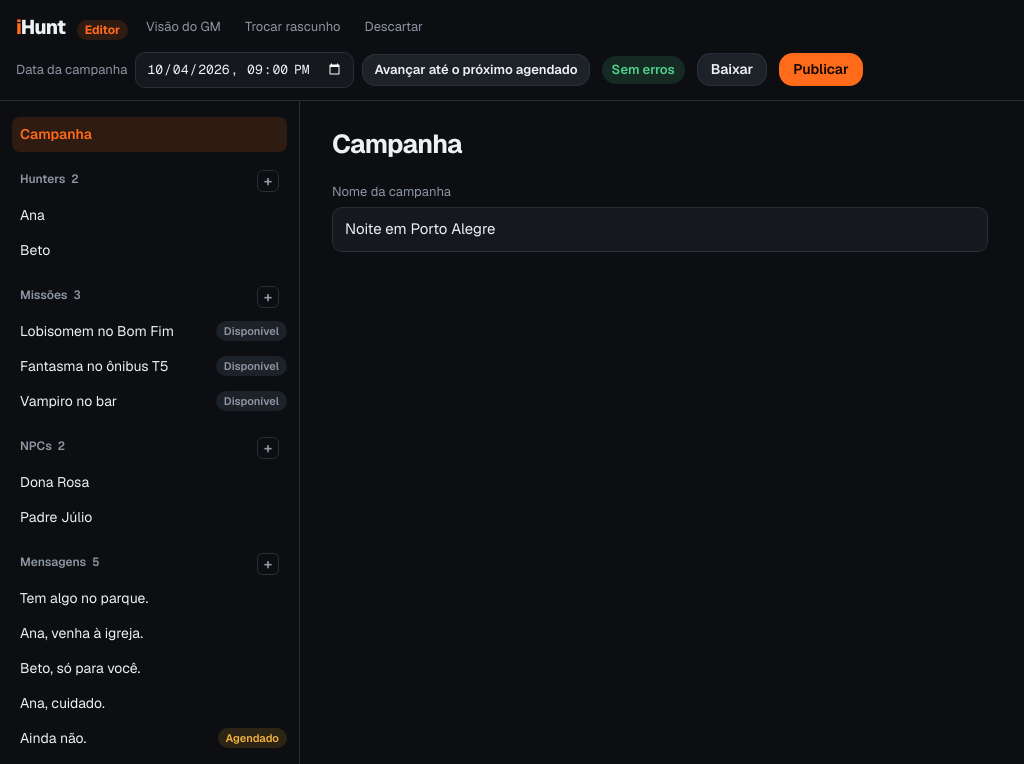
Test: Replacing the Rascunho › asks before replacing the open draft
The width and height of the screenshot is (1024, 764).
Step 1. Replace the text in the field labelled "Nome da campanha" with "Noite em Pelotas" → [660, 229], box [332,207,988,252]
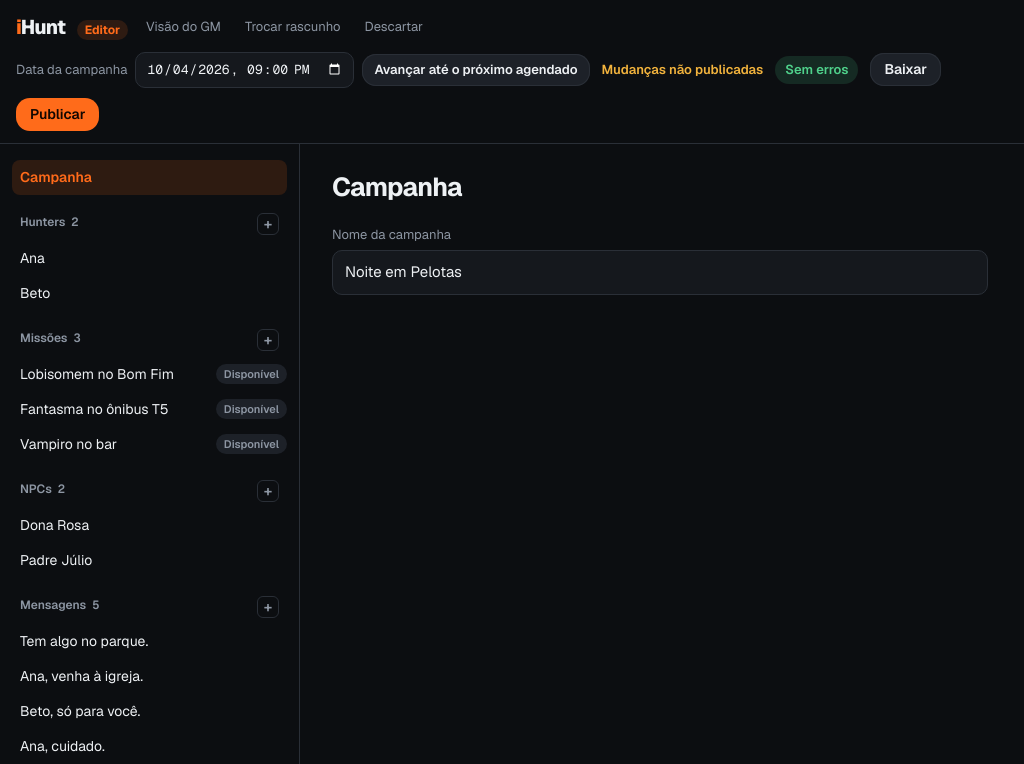
Step 2. Click the button "Trocar rascunho" → [293, 27], box [239,13,346,41]
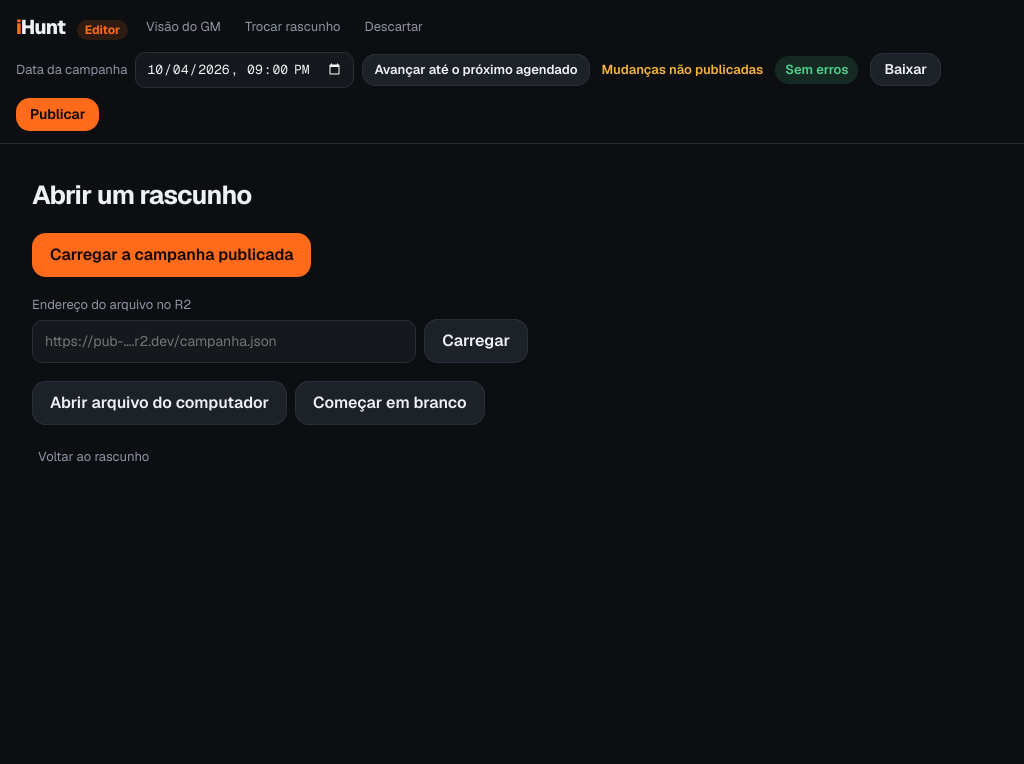
Step 3. Click the button "Começar em branco" → [390, 403], box [295,381,485,425]
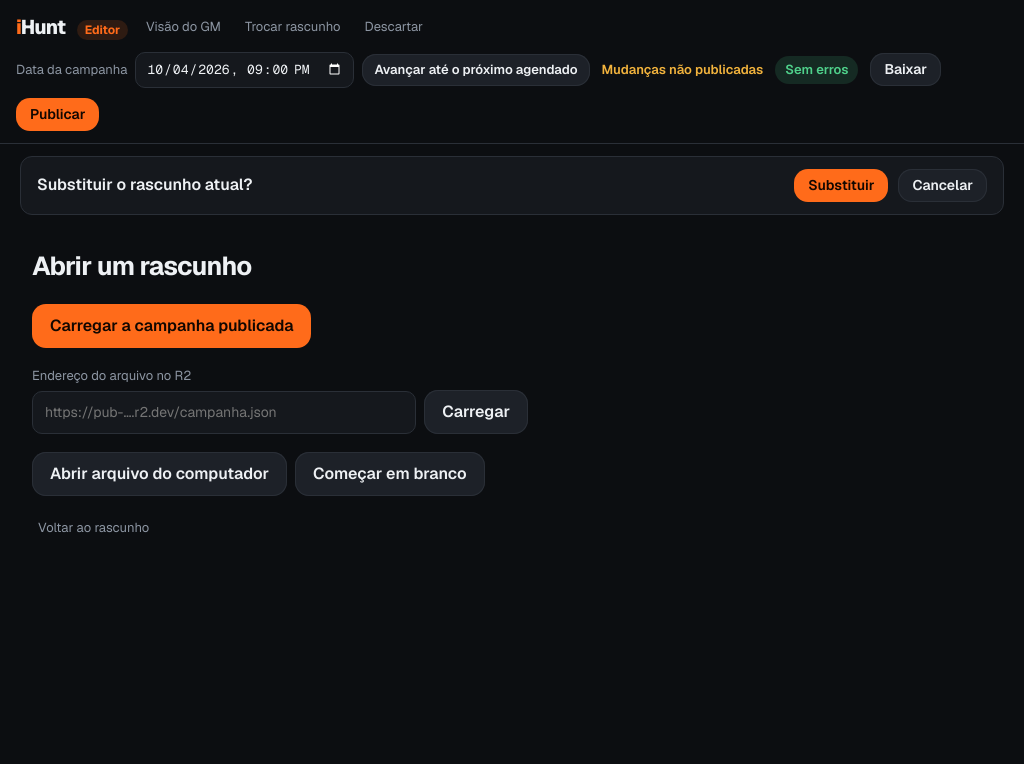
Step 4. Click the button "Substituir" → [841, 185], box [794,168,888,202]
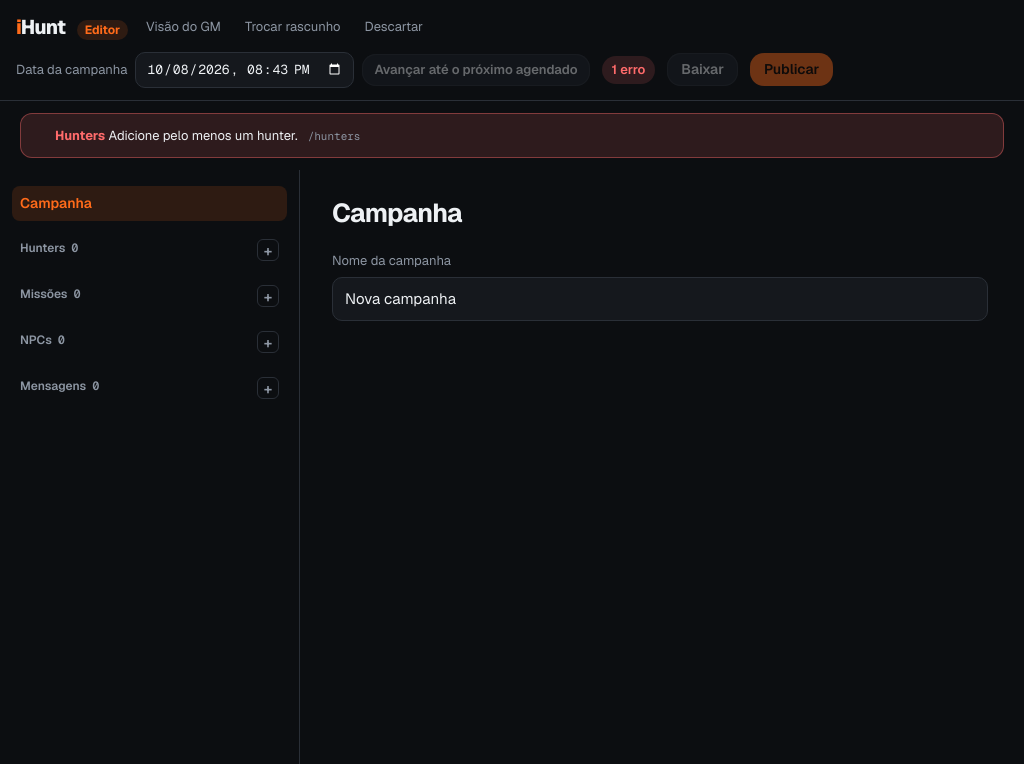
Result: the field labelled "Nome da campanha" holds "Nova campanha" at [332,276,988,321]
